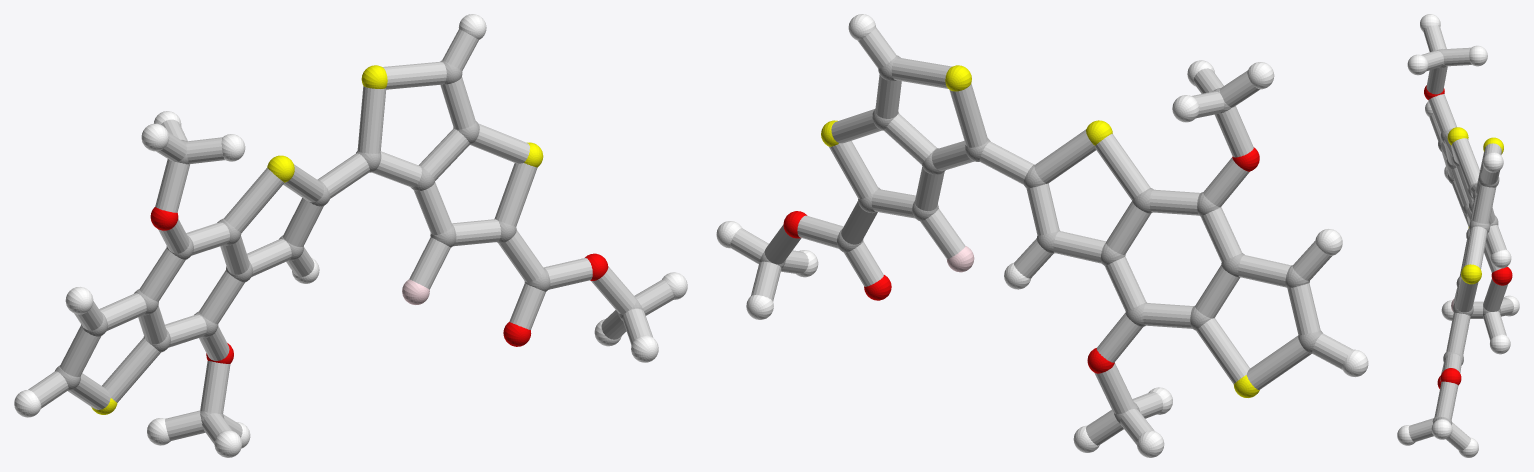
Rendered from color.glb.
3 renders of one model, left to right at view 1: azimuth 30°, elevation 25°; view 2: azimuth 150°, elevation 25°; view 3: azimuth 270°, elevation 25°, orthographic. The views are drawn at different scales.
Visible parts, largest first — view 1: grp15205, grp8689, grp1, grp13395, grp7241; view 2: grp15205, grp8689, grp1, grp7241, grp13395; view 3: grp15205, grp8689, grp1, grp7241, grp13395.
Part boxes in pixels (<box>): grp15205: <box>28,29,673,443</box>; grp8689: <box>14,14,687,457</box>; grp1: <box>55,60,643,424</box>; grp13395: <box>150,207,608,363</box>; grp7241: <box>91,65,543,414</box>; grp15205: <box>730,27,1352,445</box>; grp8689: <box>716,14,1368,457</box>; grp1: <box>759,55,1322,423</box>; grp7241: <box>821,65,1259,397</box>; grp13395: <box>783,147,1259,373</box>; grp15205: <box>1408,25,1513,451</box>; grp8689: <box>1397,14,1519,457</box>; grp1: <box>1432,48,1500,424</box>; grp7241: <box>1447,127,1503,284</box>; grp13395: <box>1424,85,1512,388</box>.
Size of the model in its own units: 16.48 by 9.25 by 3.53.
